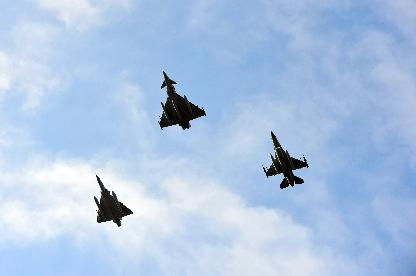E2: (158, 69, 206, 129)
F14: (262, 128, 308, 188)
Mirage2000: (93, 172, 132, 225)
